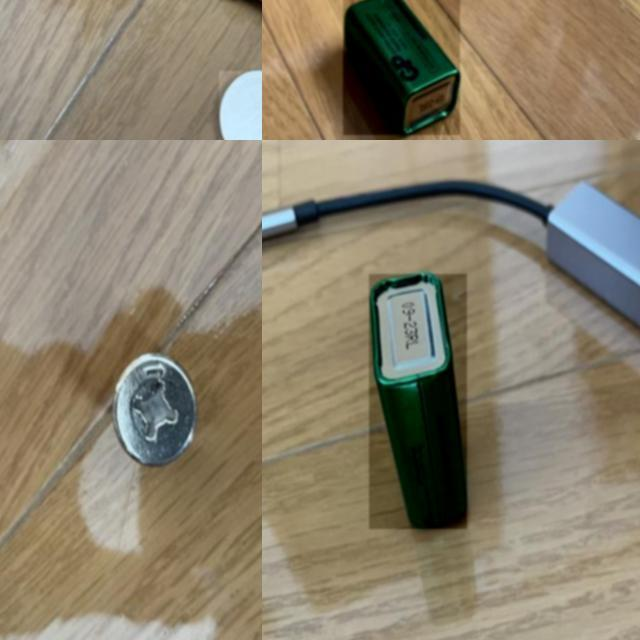9V: (369, 274, 467, 529), (343, 0, 460, 135)
